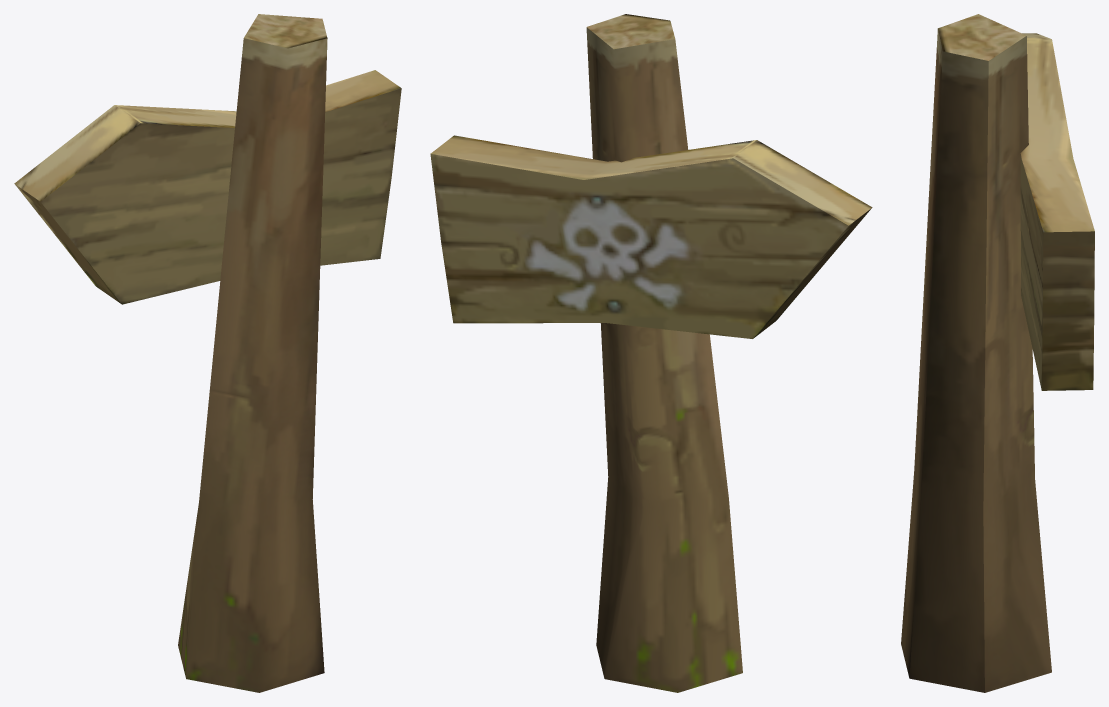
File: RoadSignal4a.FBX
The picture shows the model from 3 angles, left to right: view 1: azimuth 30°, elevation 25°; view 2: azimuth 150°, elevation 25°; view 3: azimuth 270°, elevation 25°; orthographic projection. The views are drawn at different scales.
Visible parts, largest first — view 1: RoadSignal4a; view 2: RoadSignal4a; view 3: RoadSignal4a.
Boxes of the visible parts, box(x1,y1,x2,y2) form: RoadSignal4a: box(14, 14, 401, 692); RoadSignal4a: box(430, 14, 872, 692); RoadSignal4a: box(901, 14, 1094, 692).
Size of the model in its own units: 83.32 by 127 by 34.75.
Materials: 1 (1 with a texture image).
